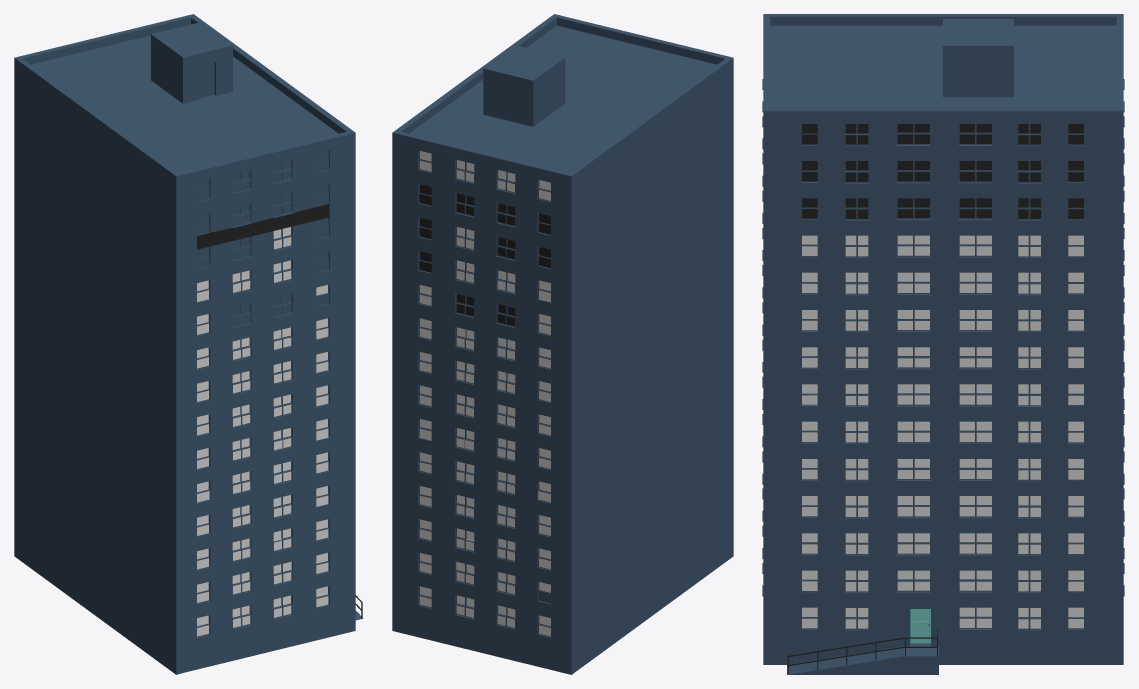
Rendered from building4.FBX.
3 renders of one model, left to right at view 1: azimuth 30°, elevation 25°; view 2: azimuth 150°, elevation 25°; view 3: azimuth 270°, elevation 25°, orthographic. The views are drawn at different scales.
Parts seen in each view (by area): view 1: Builing_j; view 2: Builing_j; view 3: Builing_j.
Part boxes in pixels (box(x1,y1,x2,y2)): Builing_j: box(14, 14, 363, 674); Builing_j: box(392, 14, 733, 674); Builing_j: box(762, 14, 1124, 674).
Size of the model in its own units: 1237 by 3205 by 1765.
